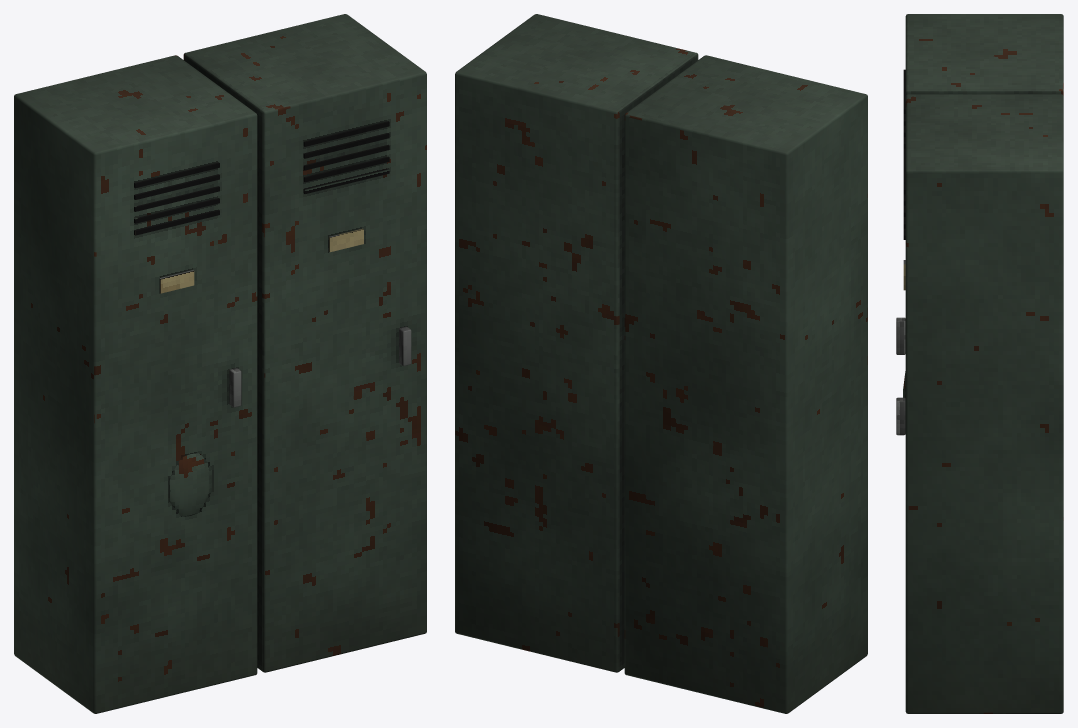
The model's file is locker.glb.
The picture shows the model from 3 angles, left to right: view 1: azimuth 30°, elevation 25°; view 2: azimuth 150°, elevation 25°; view 3: azimuth 270°, elevation 25°; orthographic projection. The views are drawn at different scales.
Parts seen in each view (by area): view 1: locker; view 2: locker; view 3: locker.
Boxes of the visible parts, x1=… form: locker: x1=14, y1=14, x2=426, y2=713; locker: x1=455, y1=14, x2=867, y2=713; locker: x1=896, y1=14, x2=1063, y2=713.
Bounding box in the file's own units: 1.18 × 1.9 × 0.53.
Materials: 1 (1 with a texture image).
